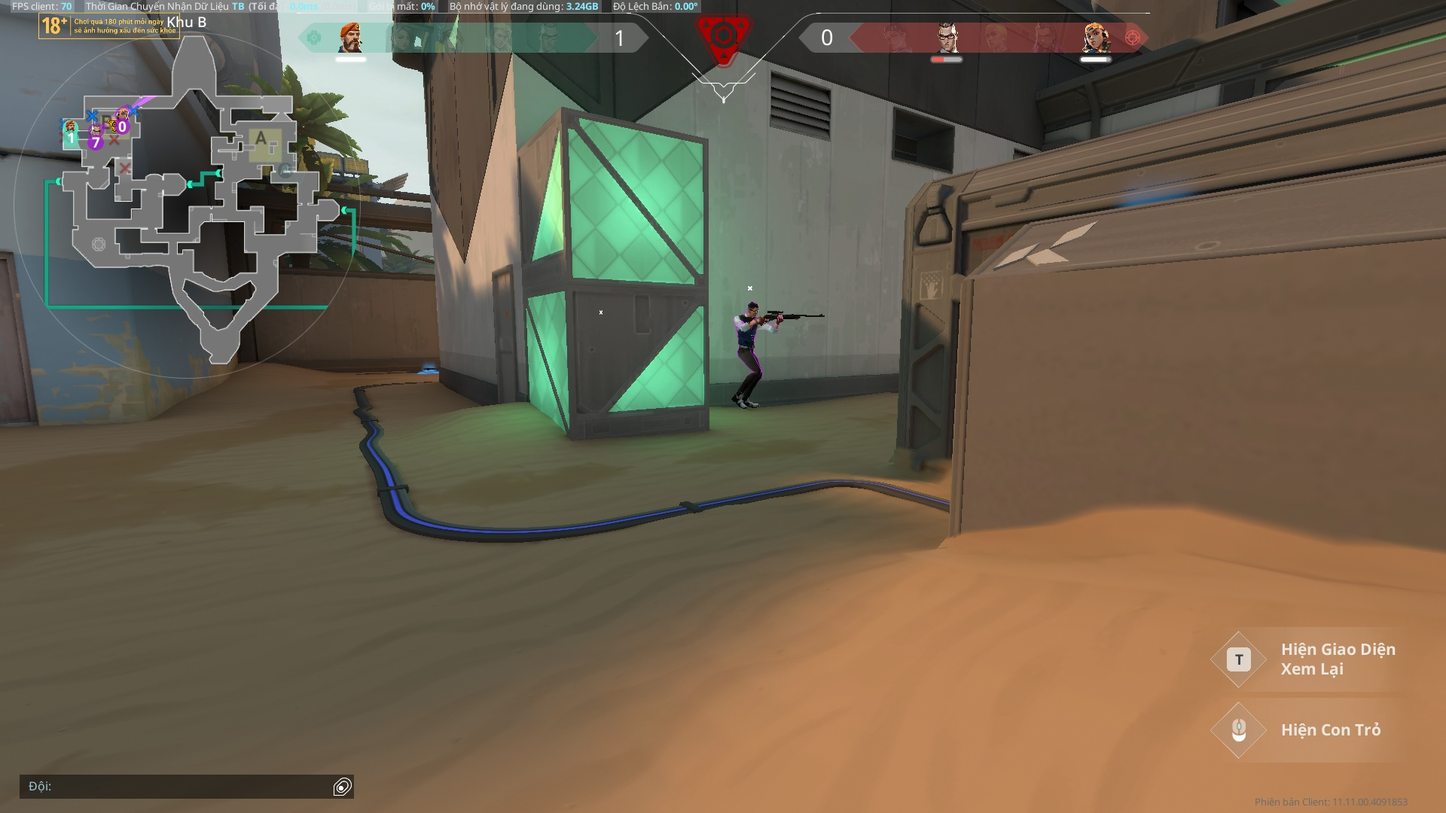body: (736, 311, 762, 346)
head: (746, 300, 758, 315)
